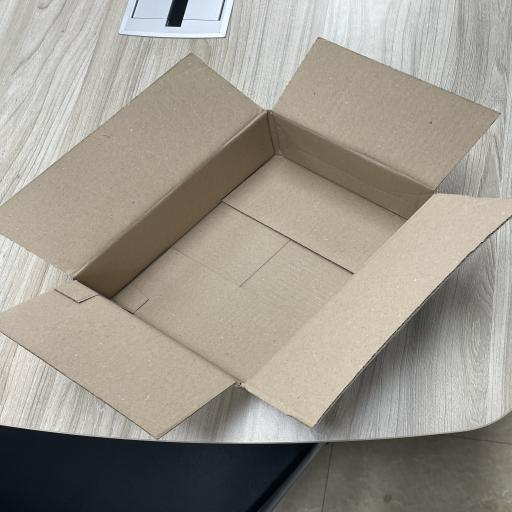box: (1, 37, 512, 438)
opened: (1, 37, 512, 438)
